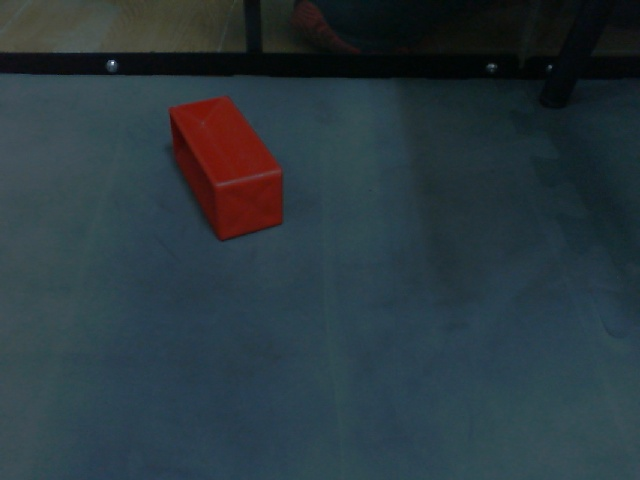RedSample: (165, 93, 286, 244)
